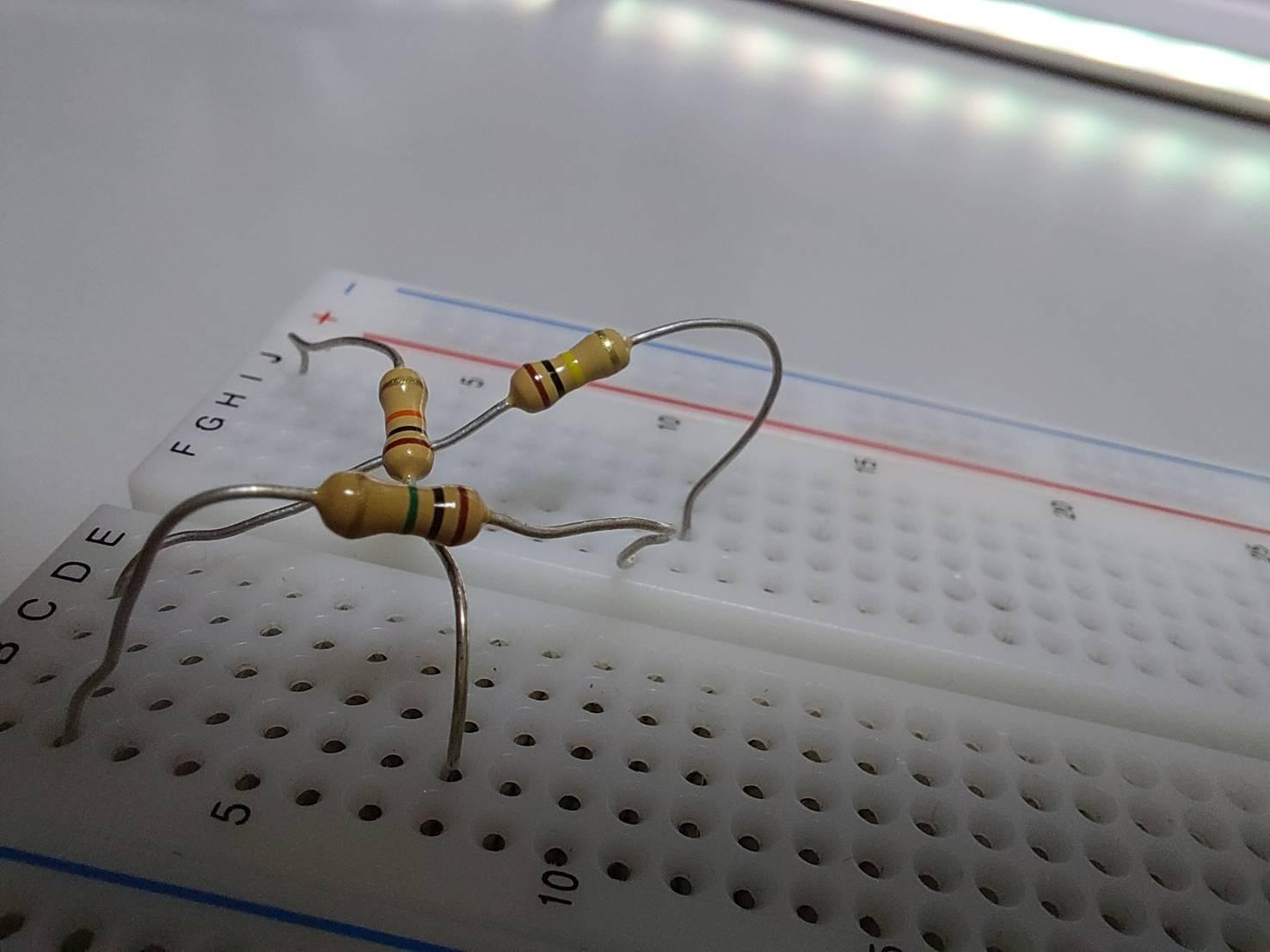resistor: (305, 469, 507, 544), (505, 322, 638, 418), (374, 369, 444, 479)
